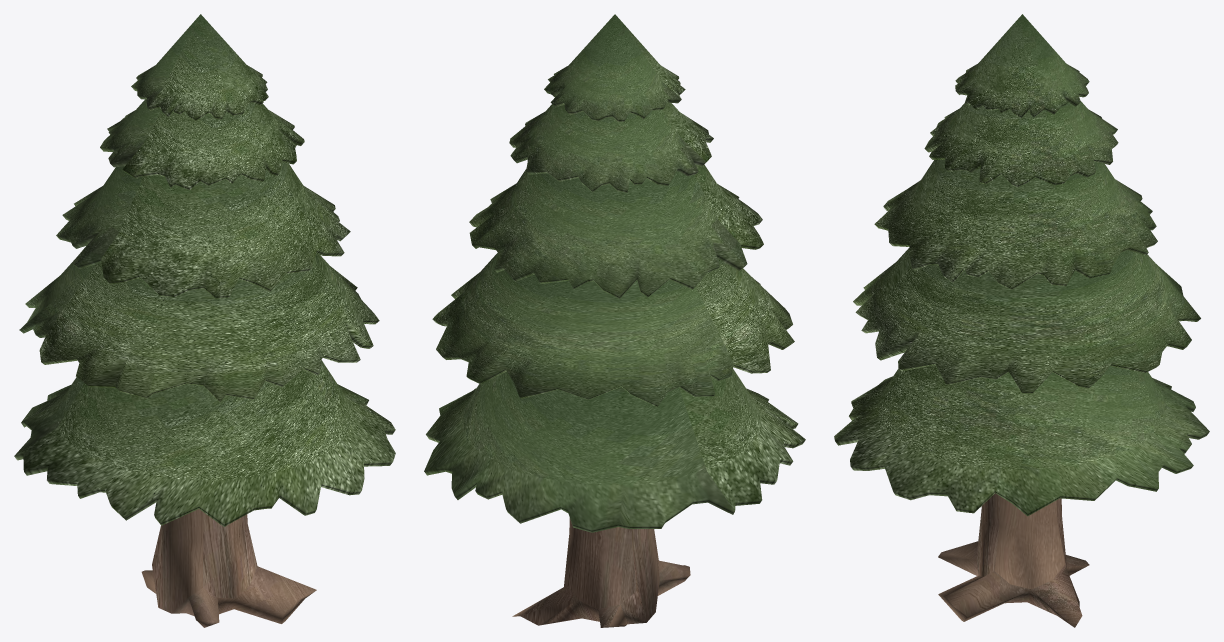
The model's file is Pinetree.fbx.
The picture shows the model from 3 angles, left to right: view 1: azimuth 30°, elevation 25°; view 2: azimuth 150°, elevation 25°; view 3: azimuth 270°, elevation 25°; orthographic projection. The views are drawn at different scales.
Visible parts, largest first — view 1: static tree.003; view 2: static tree.003; view 3: static tree.003.
Part boxes in pixels (x1,y1,x2,y2): static tree.003: (14, 14, 395, 627); static tree.003: (424, 14, 805, 627); static tree.003: (834, 14, 1209, 627).
Size of the model in its own units: 598 by 1030 by 602.
2 materials, 2 textured.
